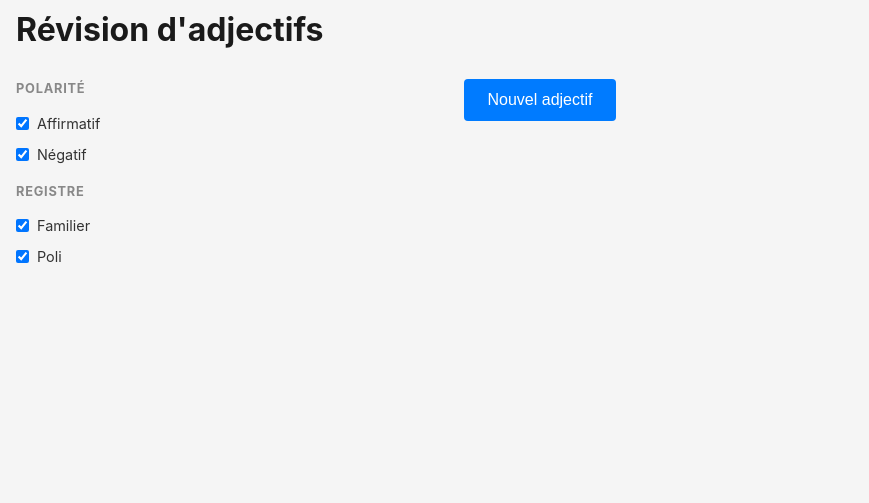
it: AdjectiveRevisionPage › when incorrect answer submitted and multiple answers exist, then shows all answers in feedback
Click the button "Nouvel adjectif".
click(540, 100)  # box [464,79,616,121]
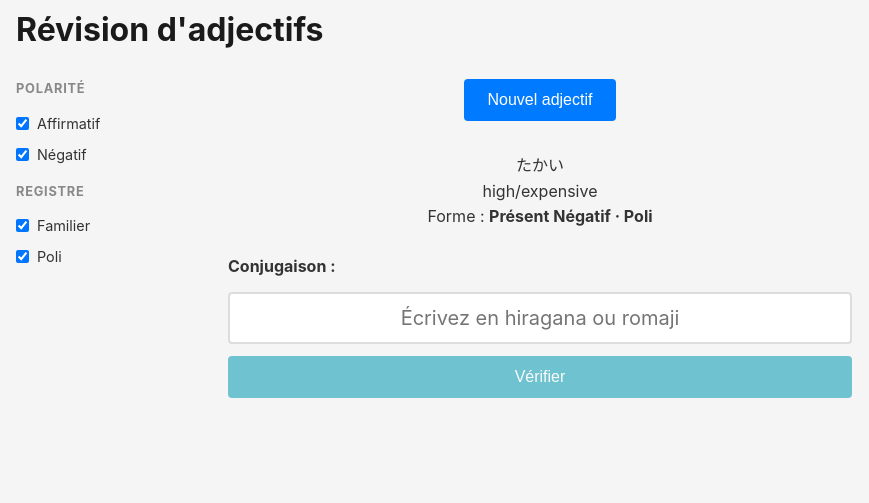
Now the field labelled "Conjugaison :" is shown
Type "wrong" into the field labelled "Conjugaison :".
click(540, 318); type("wrong")  # box [228,292,852,344]
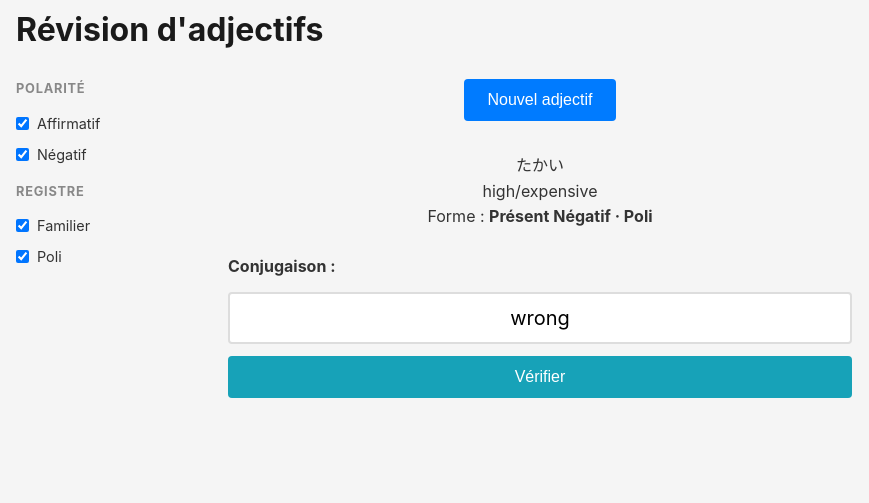
Click the button "Vérifier".
click(540, 377)  # box [228,356,852,398]
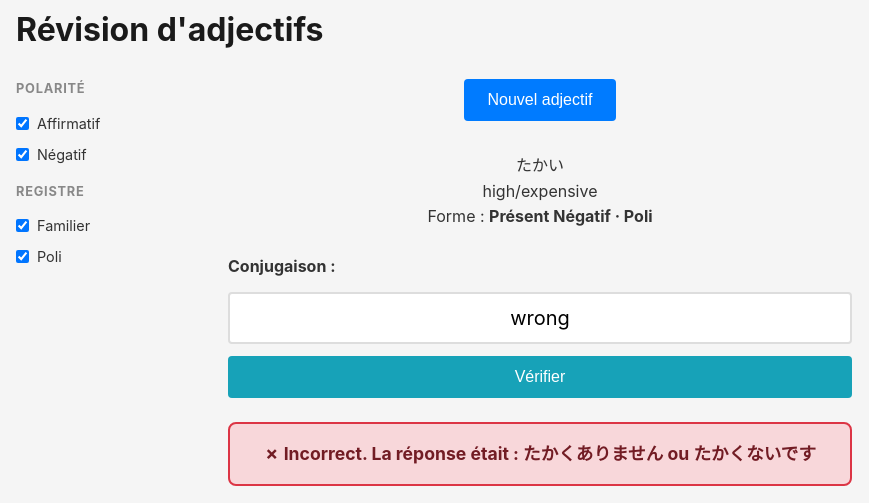
Now the text "たかくありません" is shown, box [523,443,663,464]
Now the text "たかくないです" is shown, box [693,443,816,464]
